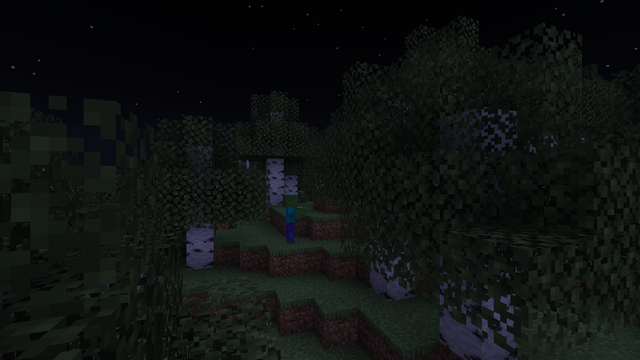zombies: (281, 195, 298, 244)
